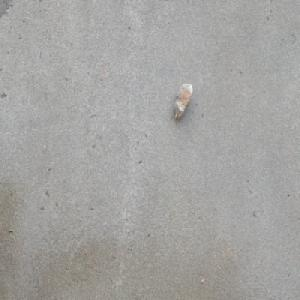Rock: (173, 82, 192, 121)
